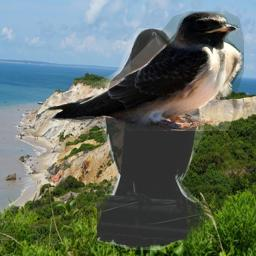Crow: (97, 28, 205, 250)
Swallow: (42, 11, 244, 131)
